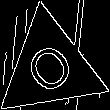O_SE: (19, 34, 81, 101)
